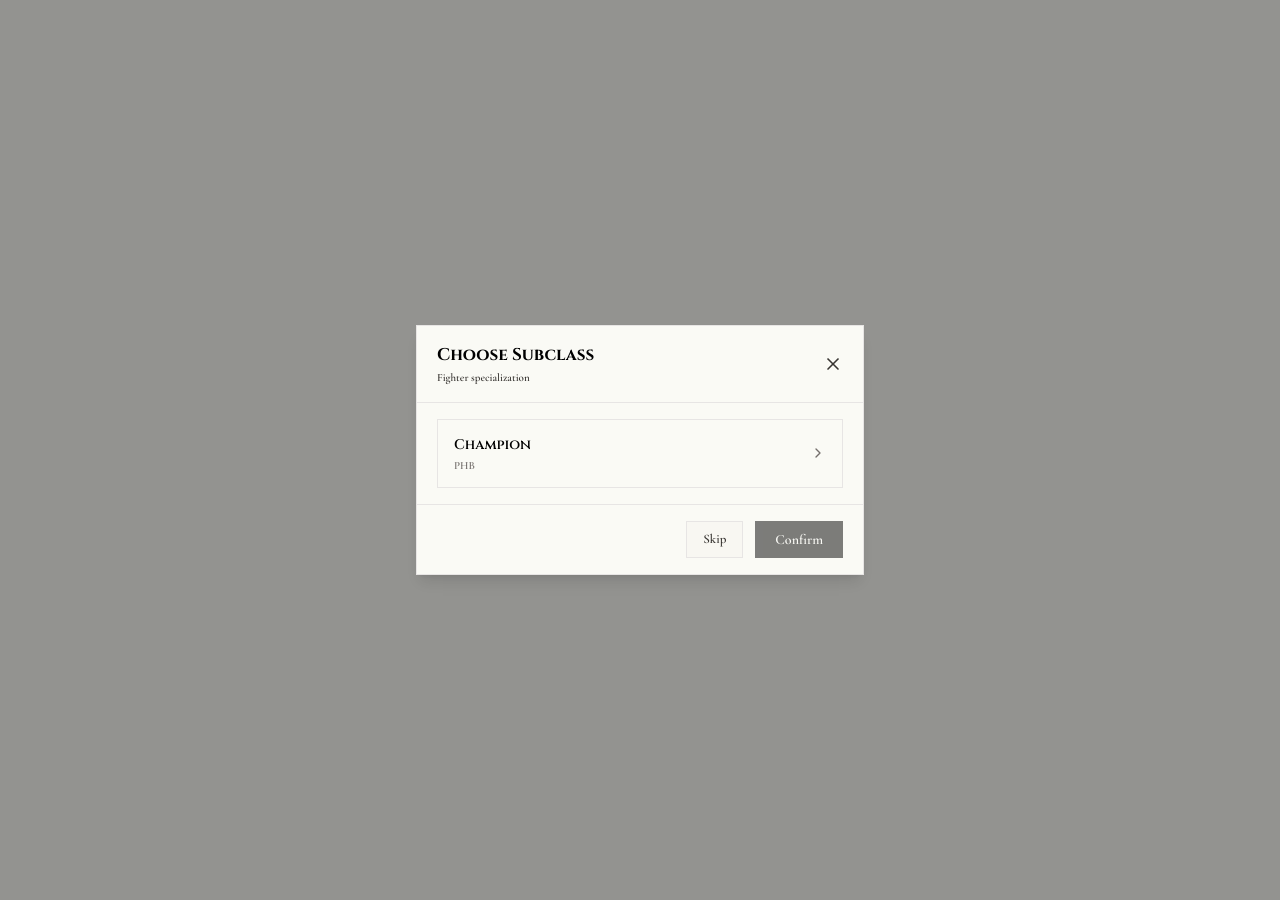
Test: SubclassModal › shows error when API fails
The width and height of the screenshot is (1280, 900).
Click the text "Champion" at (492, 444), box top-left (454, 435), bottom-right (531, 454)
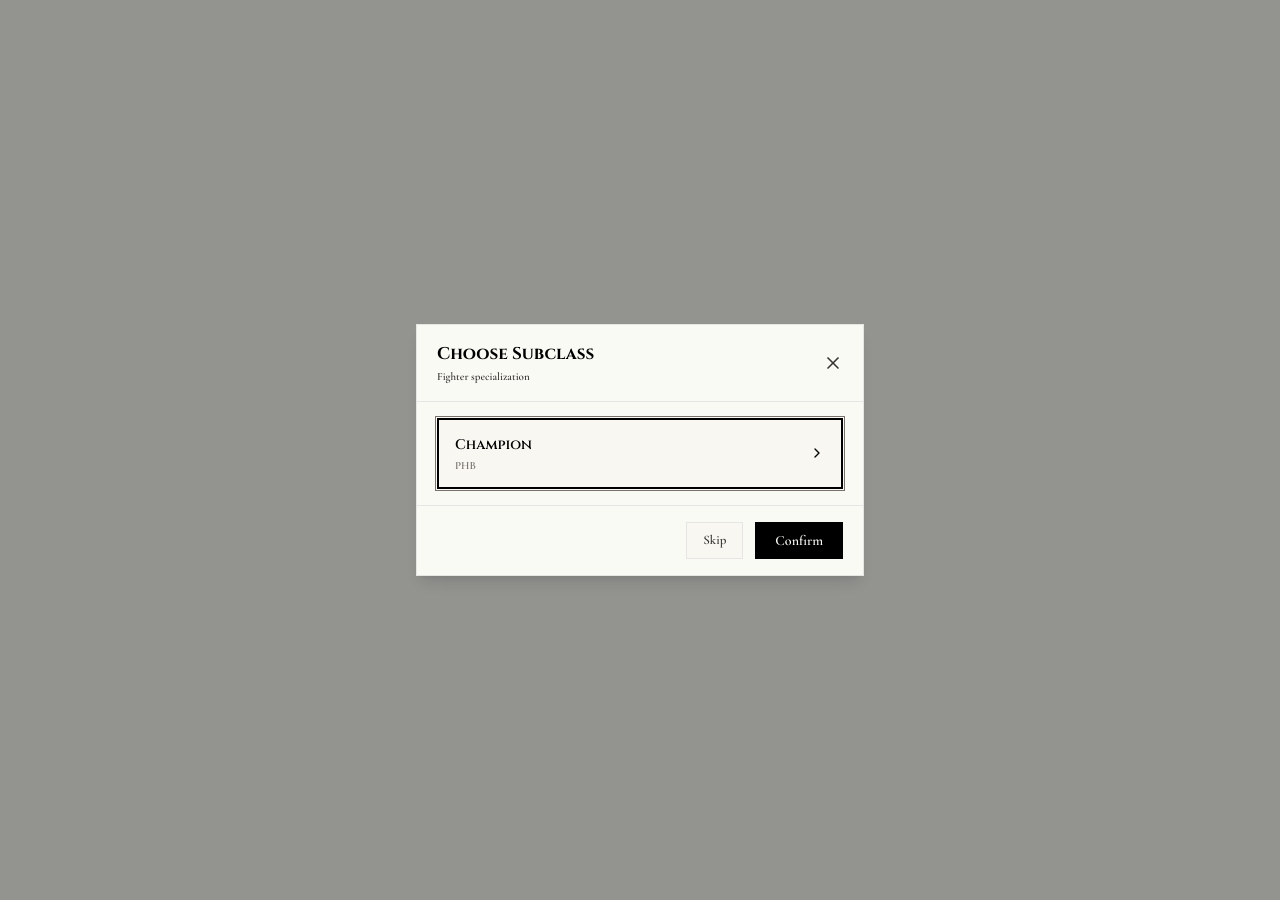
Click the button "Confirm" at (799, 540), box top-left (755, 522), bottom-right (843, 559)
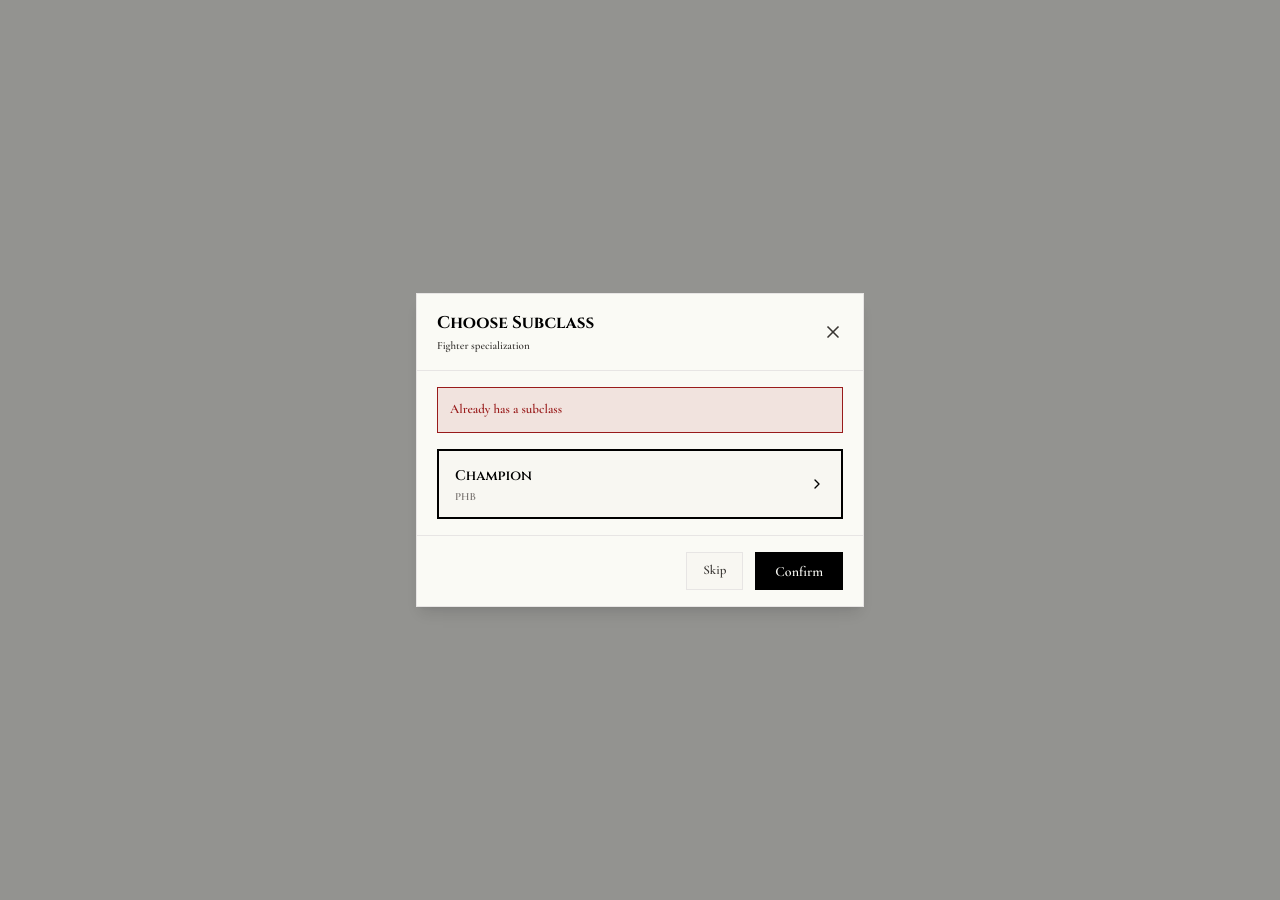
Result: the text "Already has a subclass" is shown at top-left (437, 387), bottom-right (843, 433)
